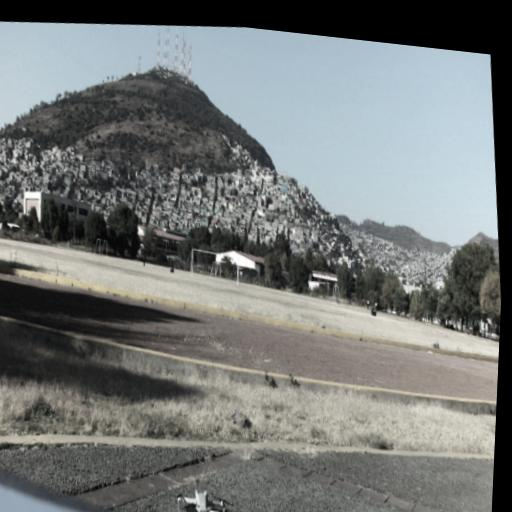drones: (173, 483, 230, 512)
